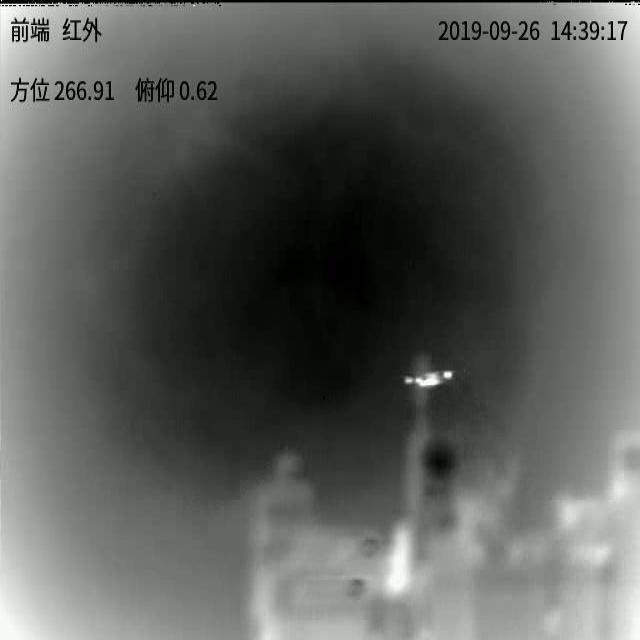drone: (404, 370, 454, 388)
